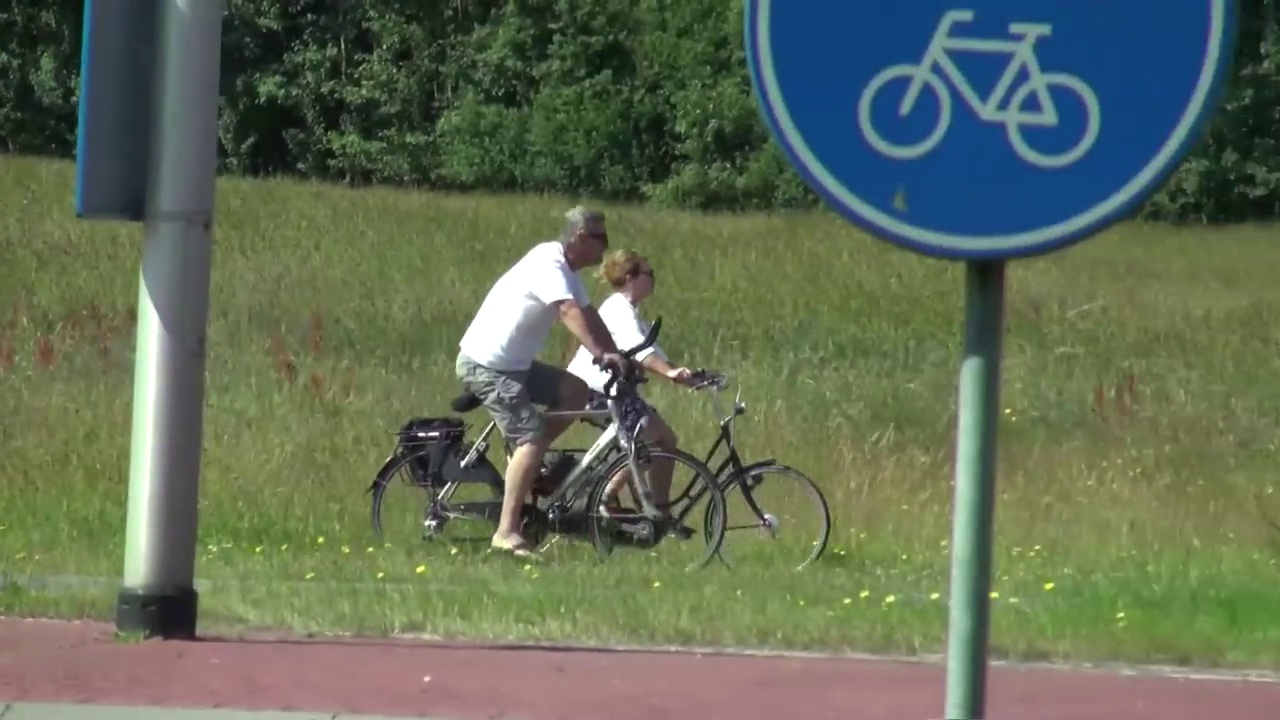cyclist_side: (384, 189, 729, 574), (587, 245, 823, 600)
